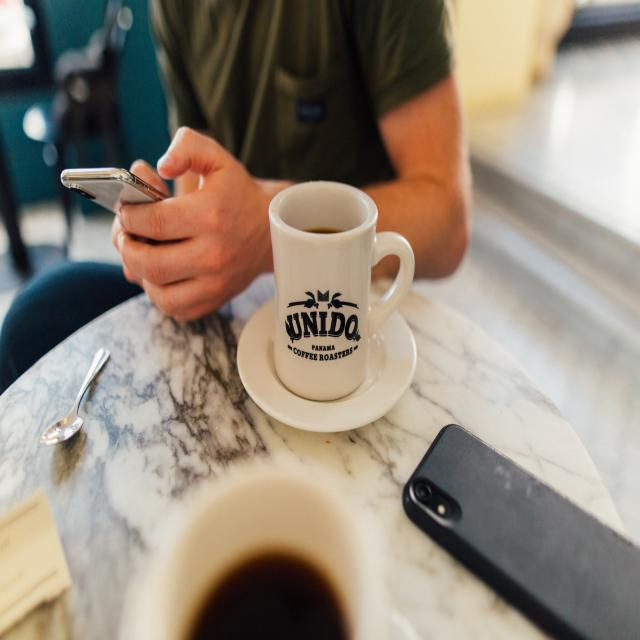cup: (253, 176, 398, 412)
phone: (398, 440, 640, 638), (40, 105, 206, 283)
